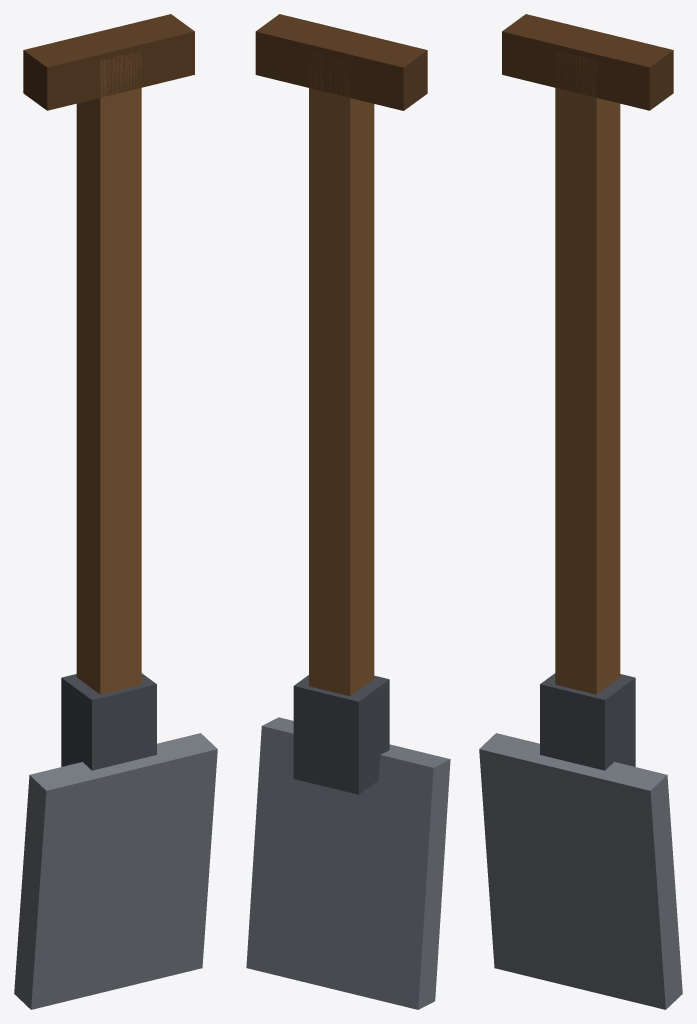
The model's file is ppl_dig_shovel.glb.
The picture shows the model from 3 angles, left to right: view 1: azimuth 30°, elevation 25°; view 2: azimuth 150°, elevation 25°; view 3: azimuth 330°, elevation 25°; orthographic projection.
Visible parts, largest first — view 1: ppl_dig_shovel; view 2: ppl_dig_shovel; view 3: ppl_dig_shovel.
Part boxes in pixels (x1,y1,x2,y2): ppl_dig_shovel: (14, 14, 217, 1009); ppl_dig_shovel: (246, 14, 450, 1009); ppl_dig_shovel: (479, 14, 682, 1009).
Size of the model in its own units: 0.058 by 0.3048 by 0.0225.
